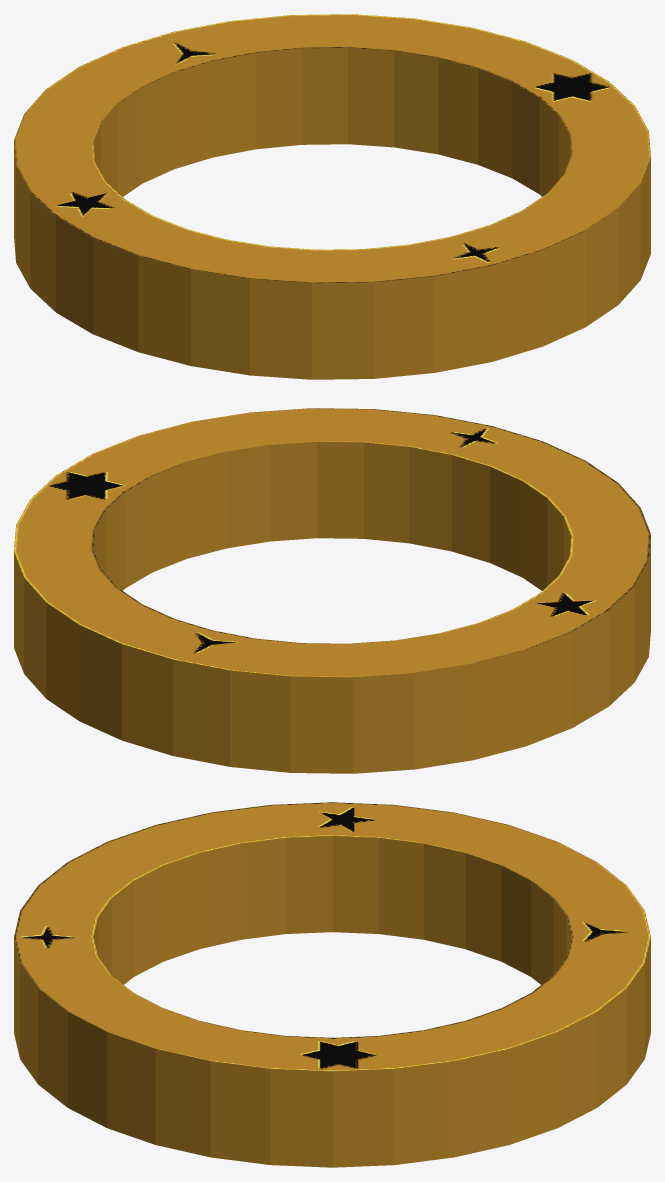
Rendered from OuterPiece.fbx.
3 views of the same model, one above another, from view 1: azimuth 30°, elevation 25°; view 2: azimuth 150°, elevation 25°; view 3: azimuth 270°, elevation 25° (orthographic).
Visible parts, largest first — view 1: RingOuterPiece; view 2: RingOuterPiece; view 3: RingOuterPiece.
Boxes of the visible parts, <box> form: RingOuterPiece: <box>14,14,650,379</box>; RingOuterPiece: <box>14,408,650,773</box>; RingOuterPiece: <box>14,802,650,1167</box>.
Bounding box in the file's own units: 150 × 25 × 150.
